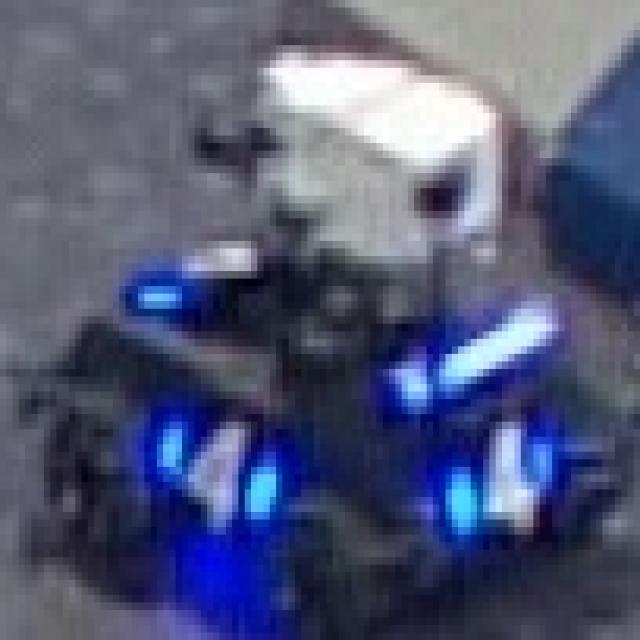B4: (439, 407, 558, 527), (151, 406, 276, 520)
